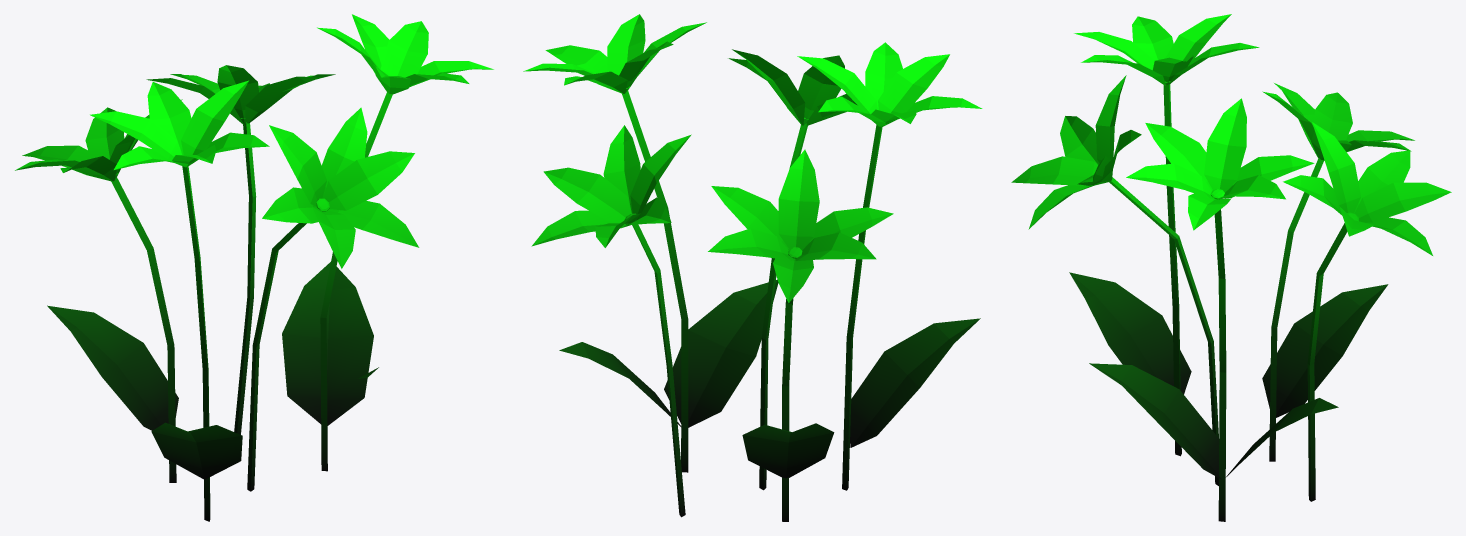
File: SM_Flower_01.fbx
3 renders of one model, left to right at view 1: azimuth 30°, elevation 25°; view 2: azimuth 150°, elevation 25°; view 3: azimuth 270°, elevation 25°, orthographic. The views are drawn at different scales.
Visible parts, largest first — view 1: SM_Flower_01; view 2: SM_Flower_01; view 3: SM_Flower_01.
Part boxes in pixels (x1,y1,x2,y2): SM_Flower_01: (15, 14, 493, 521); SM_Flower_01: (523, 14, 982, 521); SM_Flower_01: (1011, 14, 1451, 521).
Bounding box in the file's own units: 103 × 104 × 98.22.
